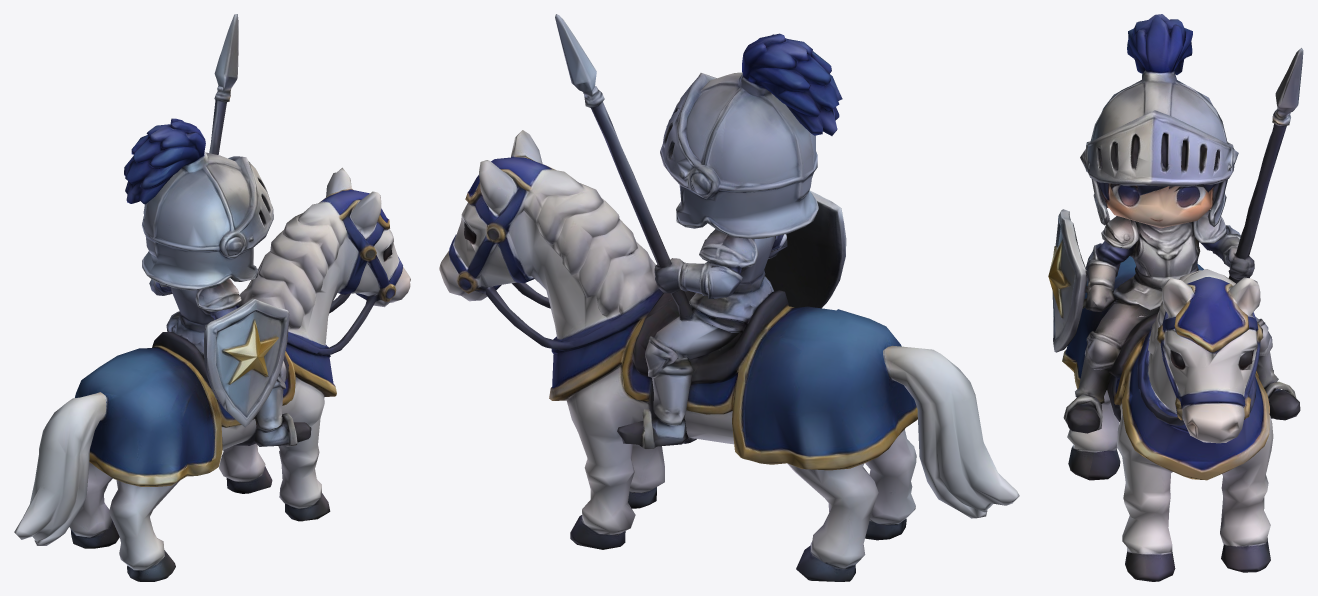
The model's file is knight-high.glb.
The picture shows the model from 3 angles, left to right: view 1: azimuth 30°, elevation 25°; view 2: azimuth 150°, elevation 25°; view 3: azimuth 270°, elevation 25°; orthographic projection. The views are drawn at different scales.
Parts seen in each view (by area): view 1: tripo_node_d52535df-e6d2-4188-bfc2-5080e9d378f3; view 2: tripo_node_d52535df-e6d2-4188-bfc2-5080e9d378f3; view 3: tripo_node_d52535df-e6d2-4188-bfc2-5080e9d378f3.
Boxes of the visible parts, left/top/right/bottom form: tripo_node_d52535df-e6d2-4188-bfc2-5080e9d378f3: left=14, top=14, right=410, bottom=581; tripo_node_d52535df-e6d2-4188-bfc2-5080e9d378f3: left=439, top=14, right=1019, bottom=581; tripo_node_d52535df-e6d2-4188-bfc2-5080e9d378f3: left=1048, top=14, right=1303, bottom=581.
Size of the model in its own units: 0.9964 by 0.9907 by 0.4401.
Materials: 1 (1 with a texture image).
